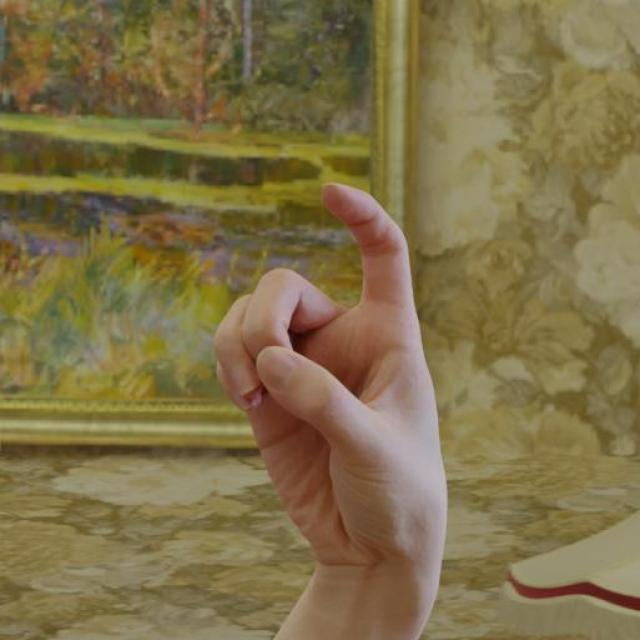X: (198, 170, 448, 634)
